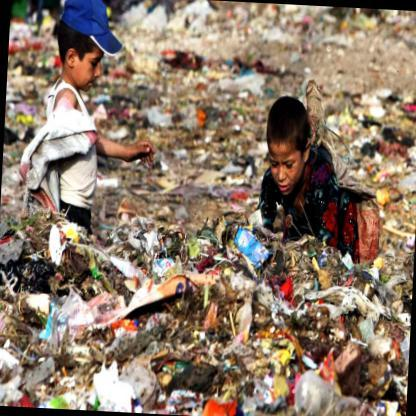Garbage: (114, 226, 260, 415), (271, 258, 413, 415), (0, 233, 107, 411)
